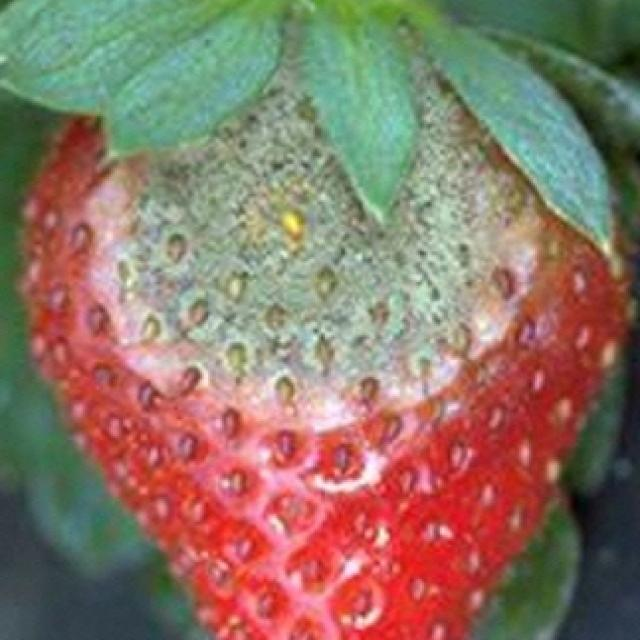Gray Mold: (83, 13, 570, 436)
